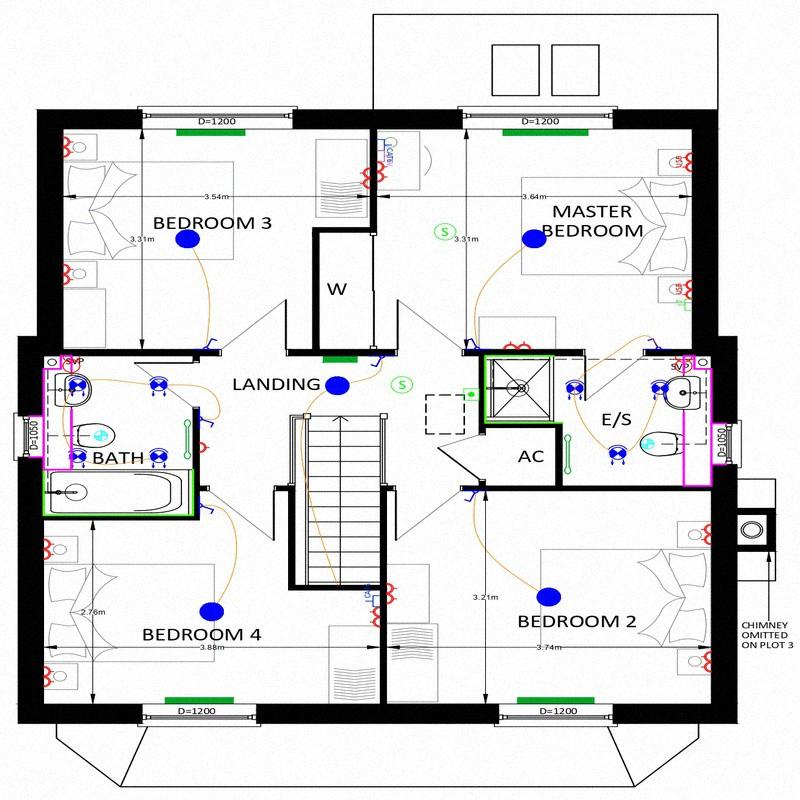Cat 6 Data Socket: (365, 584, 379, 607), (378, 140, 392, 161)
Ceiling Mounted Continuous Extract FanWith Boost Mode Activated By Light Switch: (93, 430, 108, 441), (641, 439, 654, 449)
Co-Ax TV Socket: (378, 150, 392, 167)
Double Socket: (63, 264, 74, 286), (700, 524, 711, 545), (700, 651, 711, 672), (44, 667, 55, 688), (359, 168, 370, 189), (378, 162, 389, 183), (63, 137, 74, 158), (503, 341, 531, 349), (44, 539, 55, 559), (370, 606, 380, 627), (387, 583, 397, 603)
Full Height Tiling: (43, 471, 194, 517), (485, 355, 559, 424)
Light Switch: (200, 416, 214, 428), (202, 338, 217, 349), (465, 491, 478, 503), (371, 356, 384, 367), (200, 503, 214, 513), (648, 338, 660, 349), (468, 338, 480, 348)
Low Energy Downlighter: (148, 376, 168, 398), (564, 380, 584, 401), (149, 448, 168, 469), (68, 448, 87, 469), (69, 376, 87, 398), (608, 445, 627, 465), (651, 379, 669, 400)
Low Energy Pendant Light: (522, 228, 547, 249), (174, 230, 201, 248), (200, 602, 224, 621), (537, 587, 561, 606), (325, 376, 348, 394)
Mains Wired Smoke Detector: (391, 376, 413, 393), (435, 223, 456, 239)
Programmable Room Thermostat: (464, 388, 479, 400)
Radiator: (517, 697, 594, 704), (503, 130, 589, 136), (175, 128, 245, 135), (166, 698, 233, 705), (322, 356, 357, 364)
Shaver Socket: (675, 354, 693, 378), (63, 355, 79, 377)
Single Socket: (199, 442, 209, 452)
Telephone Socket: (675, 297, 691, 310)
USB Double Socket: (674, 152, 692, 173), (676, 280, 692, 299)
